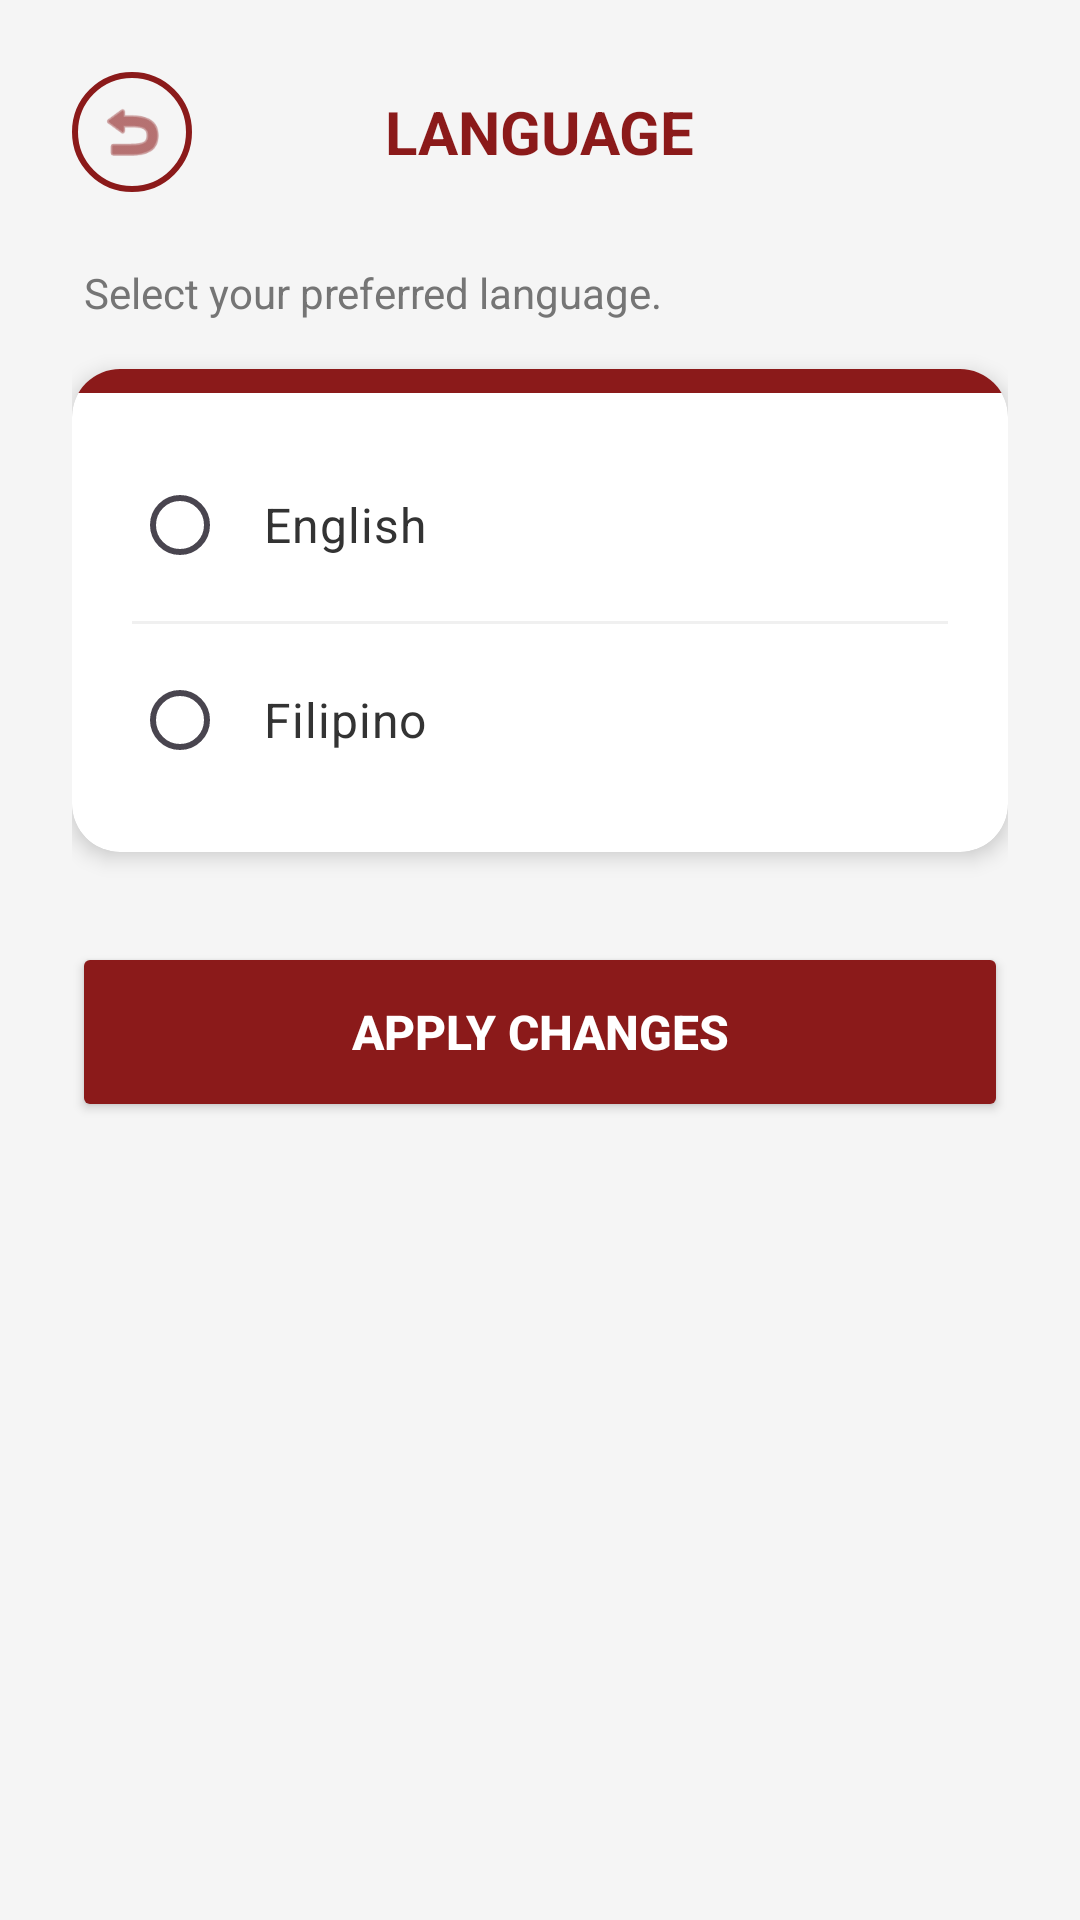

Screen size 1080 x 1920. Icon name, then its box in pixels as [x1,y1,x2,y2]:
revert: [72,72,192,192]
